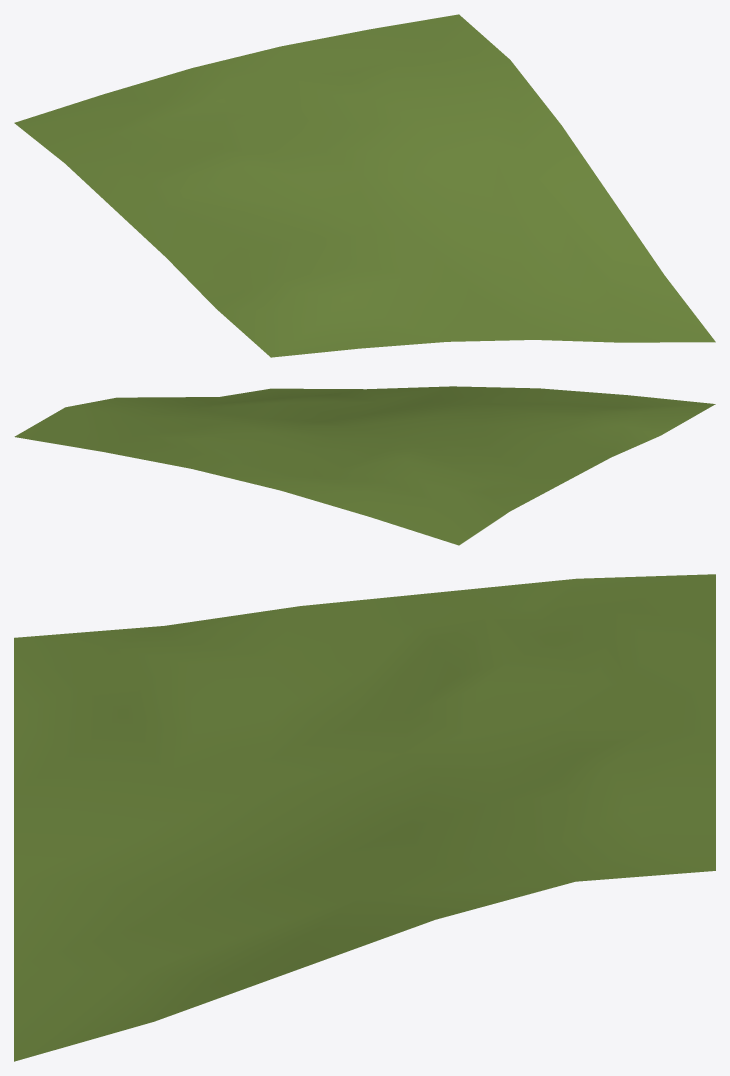
The model's file is rpgpp_ag_terrain_hill_01e_10x10m_0-3-2-1m.fbx.
The picture shows the model from 3 angles, top to bottom: view 1: azimuth 30°, elevation 25°; view 2: azimuth 150°, elevation 25°; view 3: azimuth 270°, elevation 25°; orthographic projection. The views are drawn at different scales.
Visible parts, largest first — view 1: rpgpp_ag_terrain_hill_01e_10x10m_0-3-2-1m; view 2: rpgpp_ag_terrain_hill_01e_10x10m_0-3-2-1m; view 3: rpgpp_ag_terrain_hill_01e_10x10m_0-3-2-1m.
Boxes of the visible parts, x1=… form: rpgpp_ag_terrain_hill_01e_10x10m_0-3-2-1m: x1=14, y1=14, x2=715, y2=357; rpgpp_ag_terrain_hill_01e_10x10m_0-3-2-1m: x1=14, y1=386, x2=715, y2=545; rpgpp_ag_terrain_hill_01e_10x10m_0-3-2-1m: x1=14, y1=574, x2=715, y2=1061.
Size of the model in its own units: 10 by 3.25 by 10.
